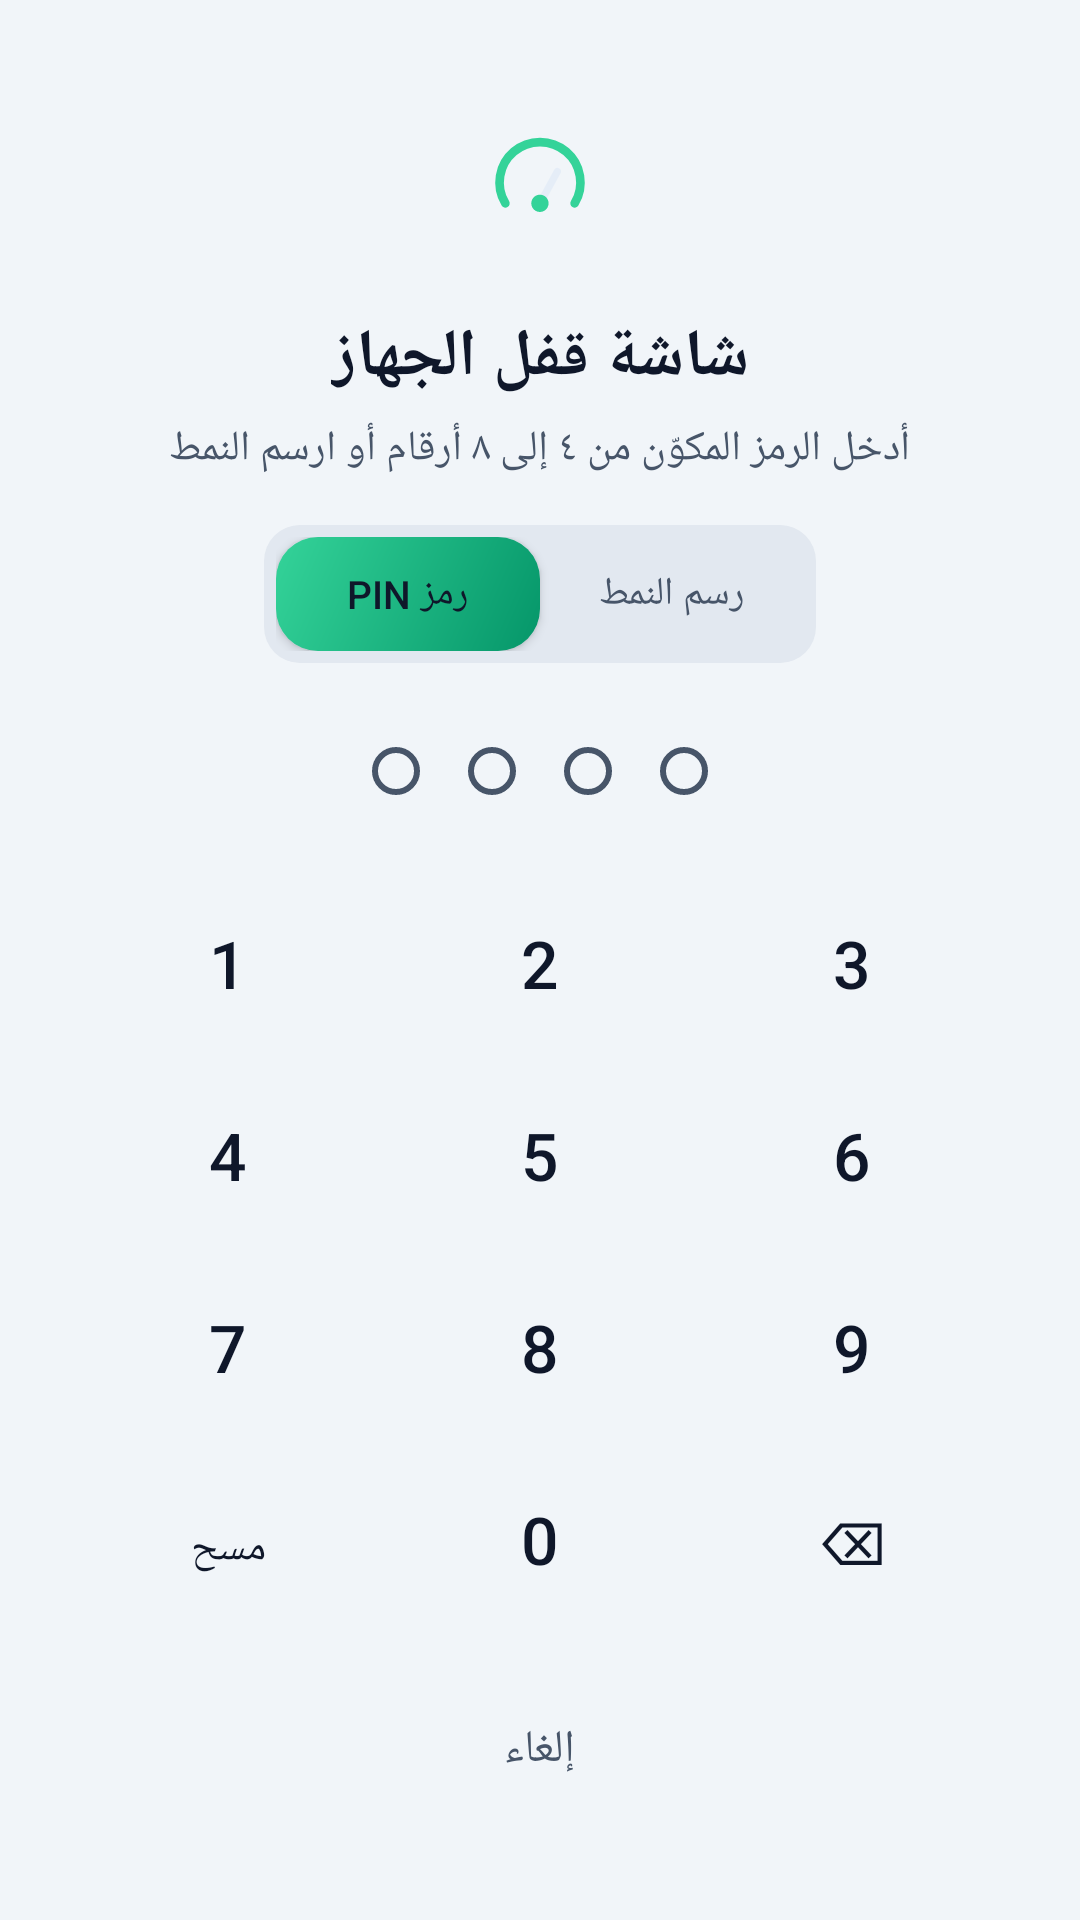

Where to tap for icons on this 1080px x 1920px app screen, as point (x, y):
pin dot: point (396, 771), point (492, 771), point (588, 771), point (684, 771)
